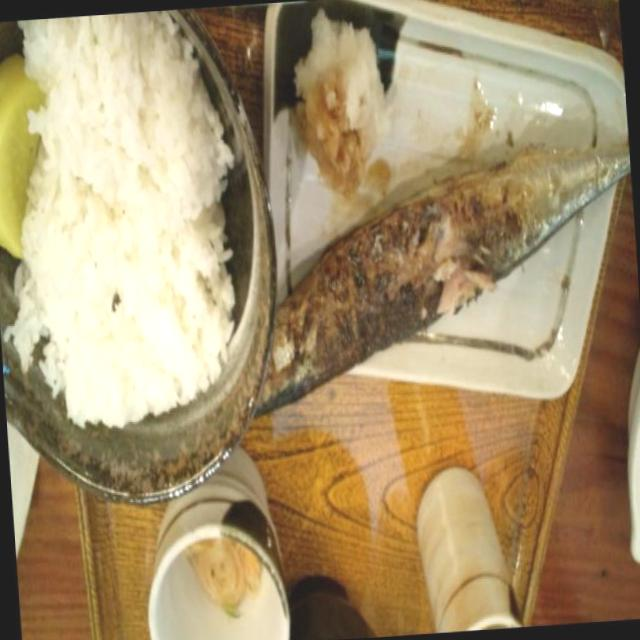Rice: (13, 12, 242, 435)
